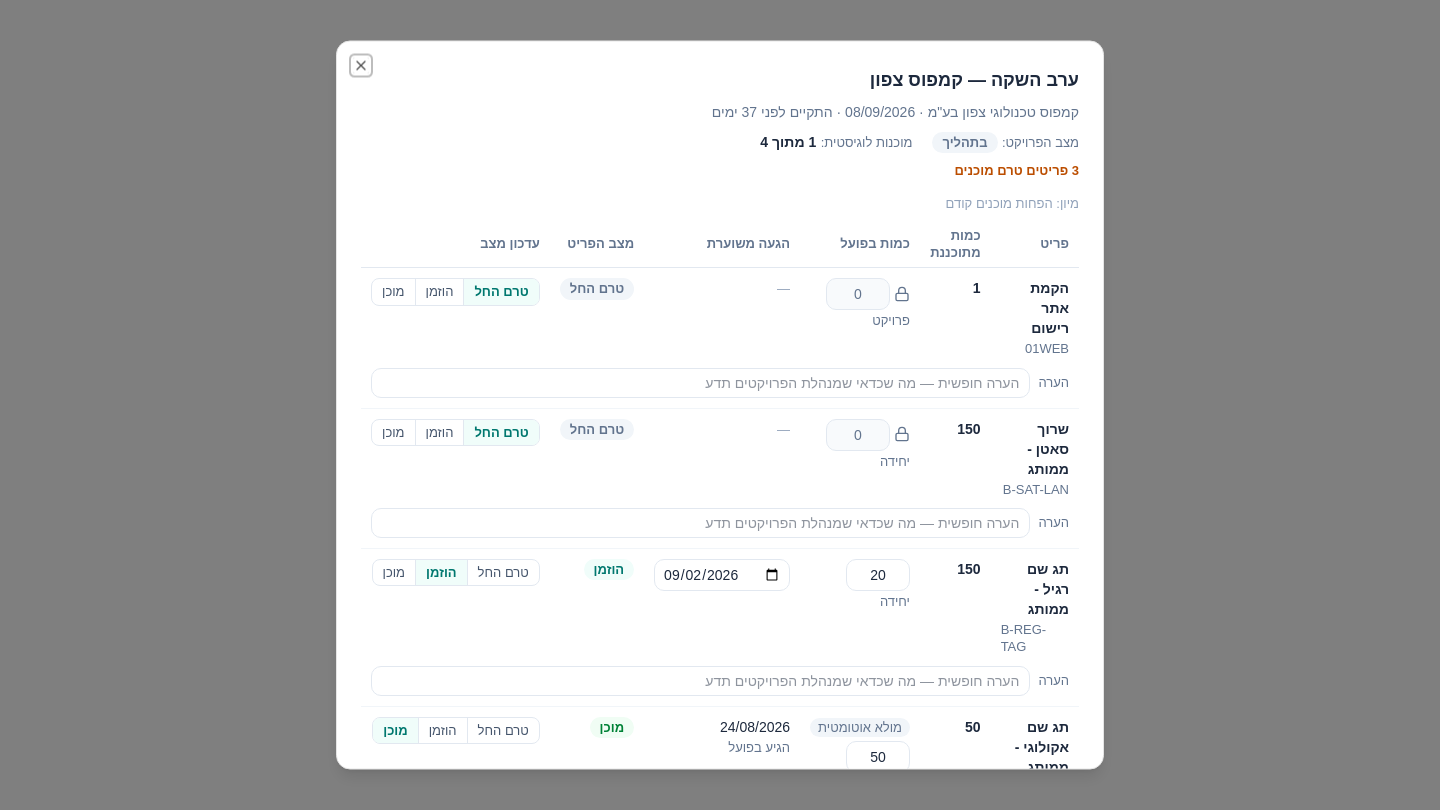
ChecklistDialog — מסלול-הכתיבה › הצלחה רגילה — שלושת האפקטים יחד: תג-המצב, המדד בכותרת, וקפיצת-המיון עם המיקוד
The width and height of the screenshot is (1440, 810).
Expected: the row with test id "checklist-row-01WEB-1" is shown, [361,267,1079,367]
Expected: the text with test id "checklist-item-status-01WEB-1" reads "טרם החל", [570,281,624,296]
Click the button with test id "checklist-status-01WEB-1-ready" at (393, 291), box [372,279,414,304]
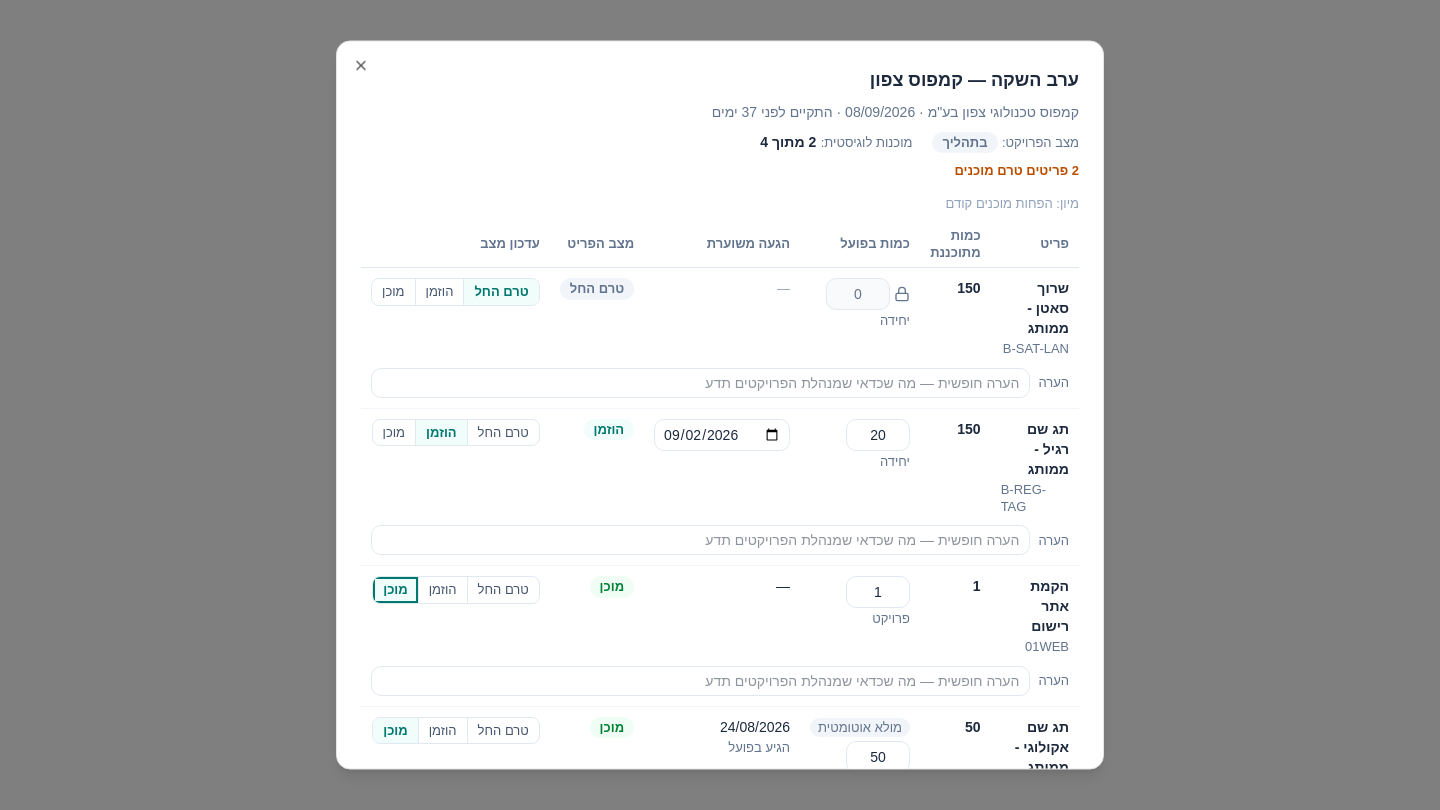
Expected: the text with test id "checklist-item-status-01WEB-1" reads "מוכן", [600,579,624,594]
Expected: the element with test id "checklist-metric" reads "2 מתוך 4", [760,134,816,150]
